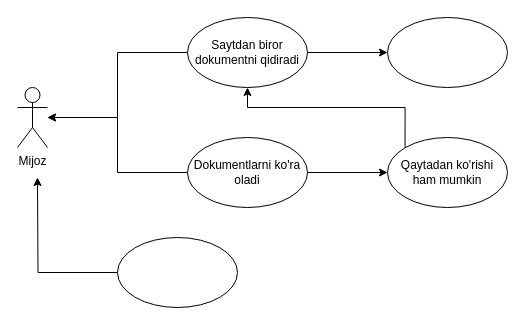
The diagram is 525 pixels wide and 325 high, and some of its shapes have lost their labels. The box of each missing label's shape, as (x1, y1, x2, y2) in pixels:
Saytdagi o'zgarishlarni kuzatib borishi mumkin: (116, 236, 238, 308)
Yuklab olishi ham mumkin: (386, 16, 508, 88)
